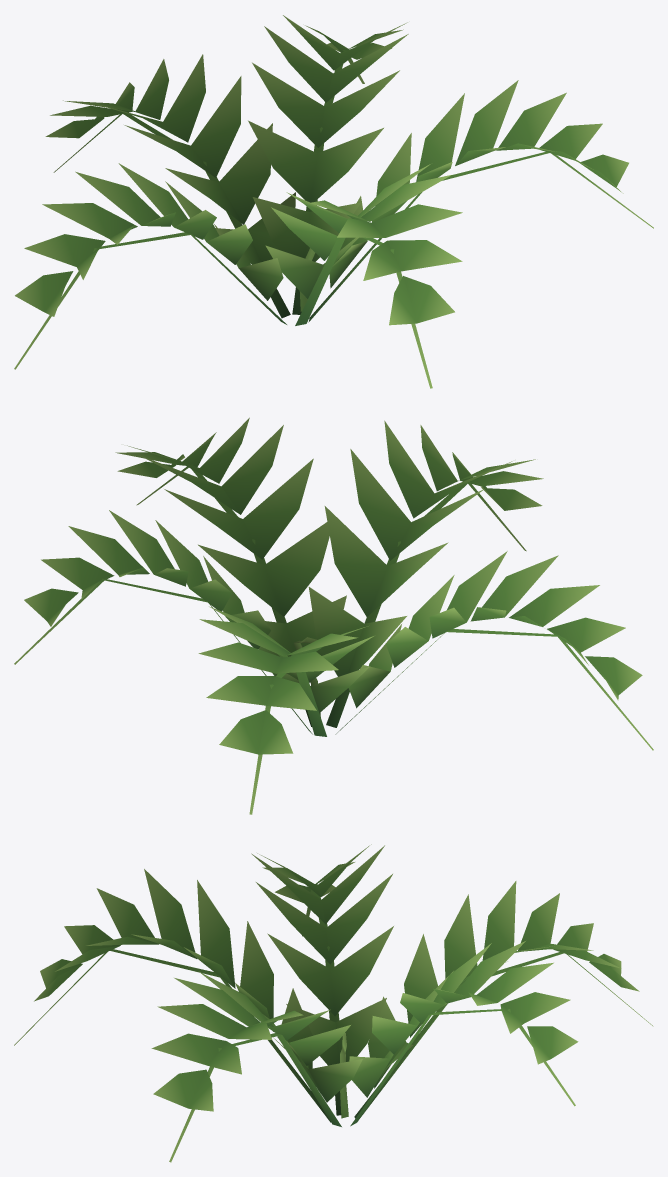
Rendered from deco-fern-v3.glb.
The picture shows the model from 3 angles, top to bottom: view 1: azimuth 30°, elevation 25°; view 2: azimuth 150°, elevation 25°; view 3: azimuth 270°, elevation 25°; orthographic projection. The views are drawn at different scales.
Visible parts, largest first — view 1: 0_fern; view 2: 0_fern; view 3: 0_fern.
Part boxes in pixels (x1,y1,x2,y2): 0_fern: (14, 15, 653, 388); 0_fern: (14, 417, 653, 814); 0_fern: (14, 844, 653, 1162).
Size of the model in its own units: 1.44 by 0.5098 by 1.41.
